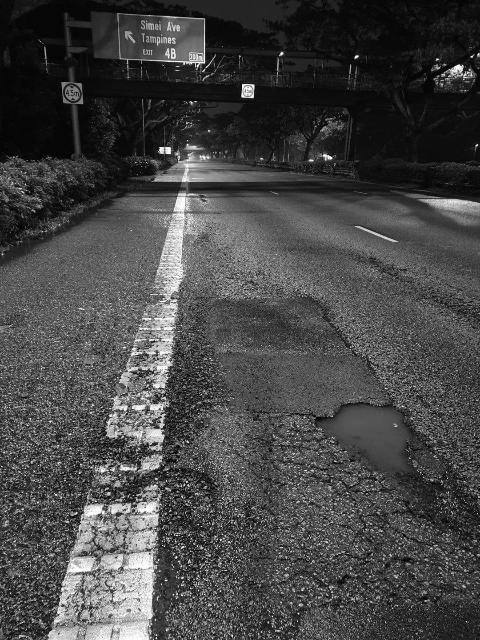Pothole: (311, 400, 426, 486)
